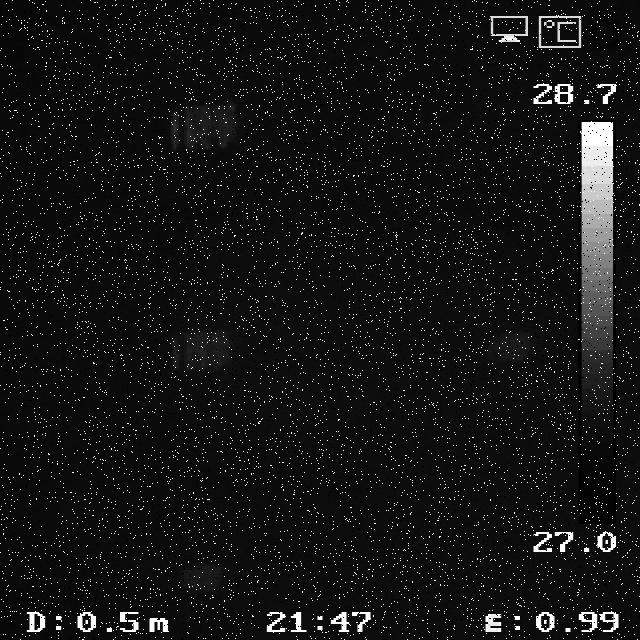Indistinguishable 4-bar target: (180, 560, 225, 590), (496, 331, 532, 359)
threshold 4-bar target: (166, 103, 246, 153), (167, 331, 240, 373)
